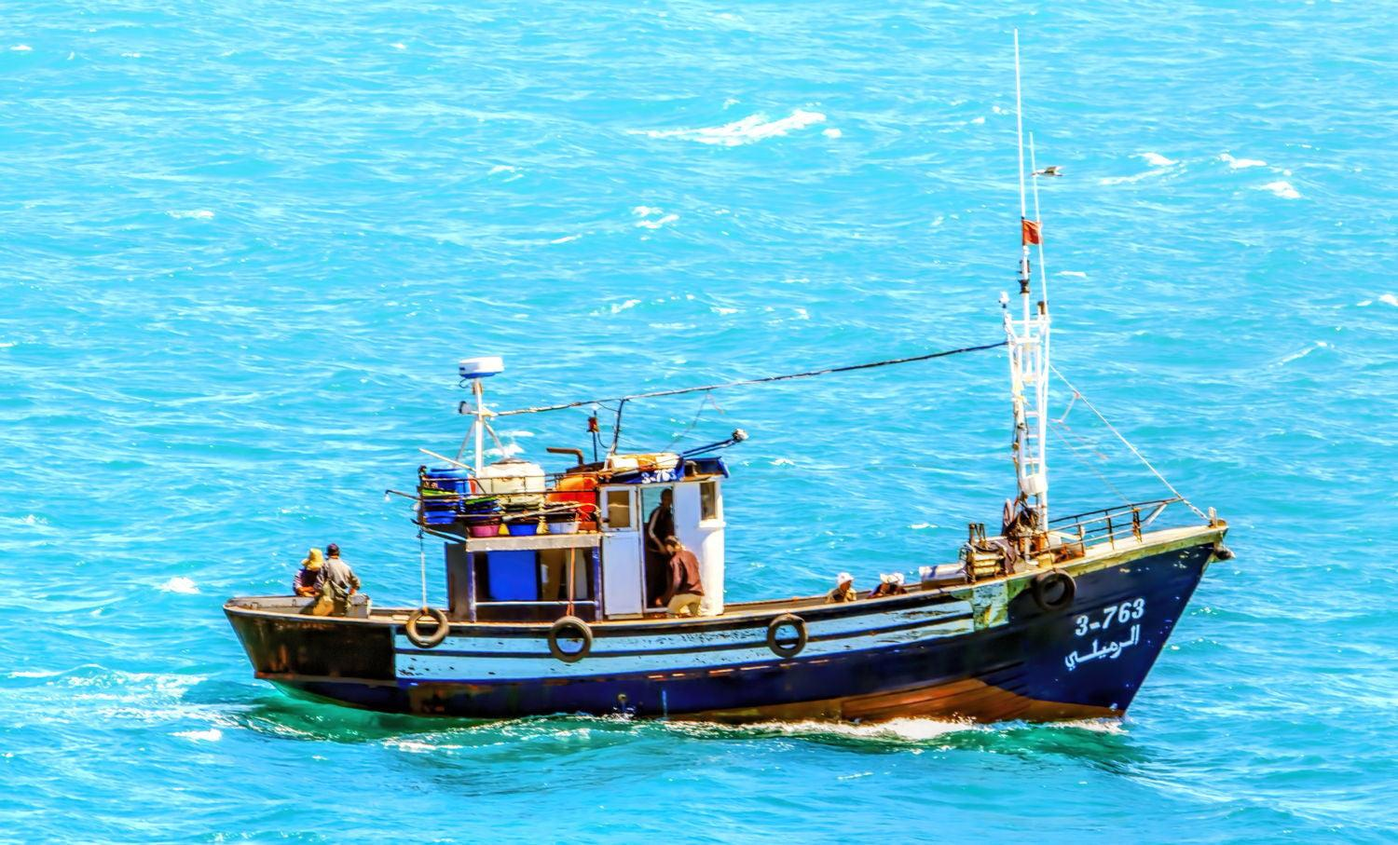fishing boat: (220, 26, 1242, 729)
